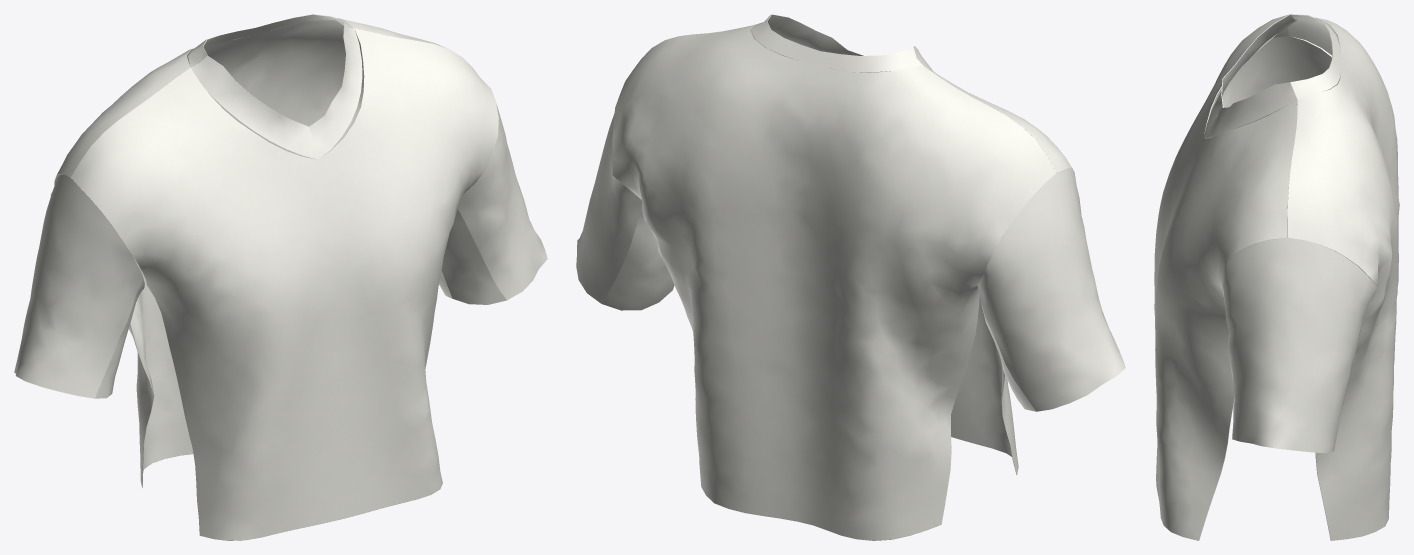
Rendered from nsapro-jersey.glb.
3 renders of one model, left to right at view 1: azimuth 30°, elevation 25°; view 2: azimuth 150°, elevation 25°; view 3: azimuth 270°, elevation 25°, orthographic. The views are drawn at different scales.
Parts seen in each view (by area): view 1: body (×2), sleeveL, sleeveR (×3), collar (×3); view 2: body (×2), sleeveL (×2), sleeveR, collar (×2); view 3: body (×2), sleeveR, collar (×3), sleeveL.
Part boxes in pixels (x1=…): body (×2): x1=50, y1=18, x2=498, y2=540; sleeveL: x1=14, y1=174, x2=143, y2=398; sleeveR (×3): x1=95, y1=102, x2=547, y2=398; collar (×3): x1=188, y1=14, x2=362, y2=159; body (×2): x1=612, y1=25, x2=1072, y2=540; sleeveL (×2): x1=601, y1=168, x2=1125, y2=411; sleeveR: x1=576, y1=81, x2=641, y2=303; collar (×2): x1=750, y1=14, x2=923, y2=72; body (×2): x1=1154, y1=14, x2=1399, y2=540; sleeveR: x1=1221, y1=237, x2=1377, y2=452; collar (×3): x1=1204, y1=14, x2=1341, y2=138; sleeveL: x1=1222, y1=36, x2=1339, y2=125.
Size of the model in its own units: 0.6033 by 0.4855 by 0.2436.
1 material, 1 textured.
